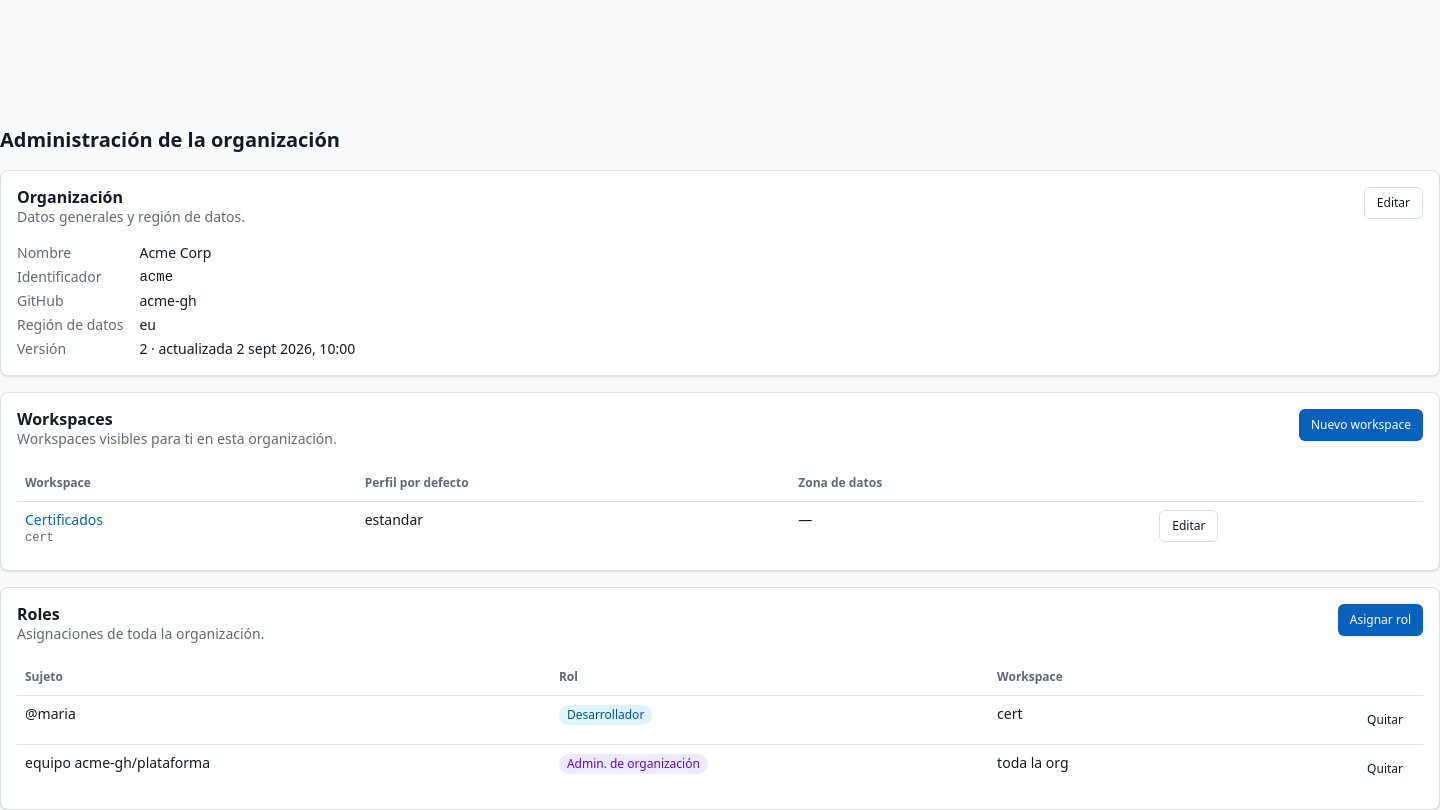
Test case: administración de la organización › un 409 al editar se explica como conflicto de versión y un 422 lista los campos inválidos
(page scrolled)
Click the button "Editar" in the row of "Certificados".
click(1189, 526)  # box [1159,510,1218,542]
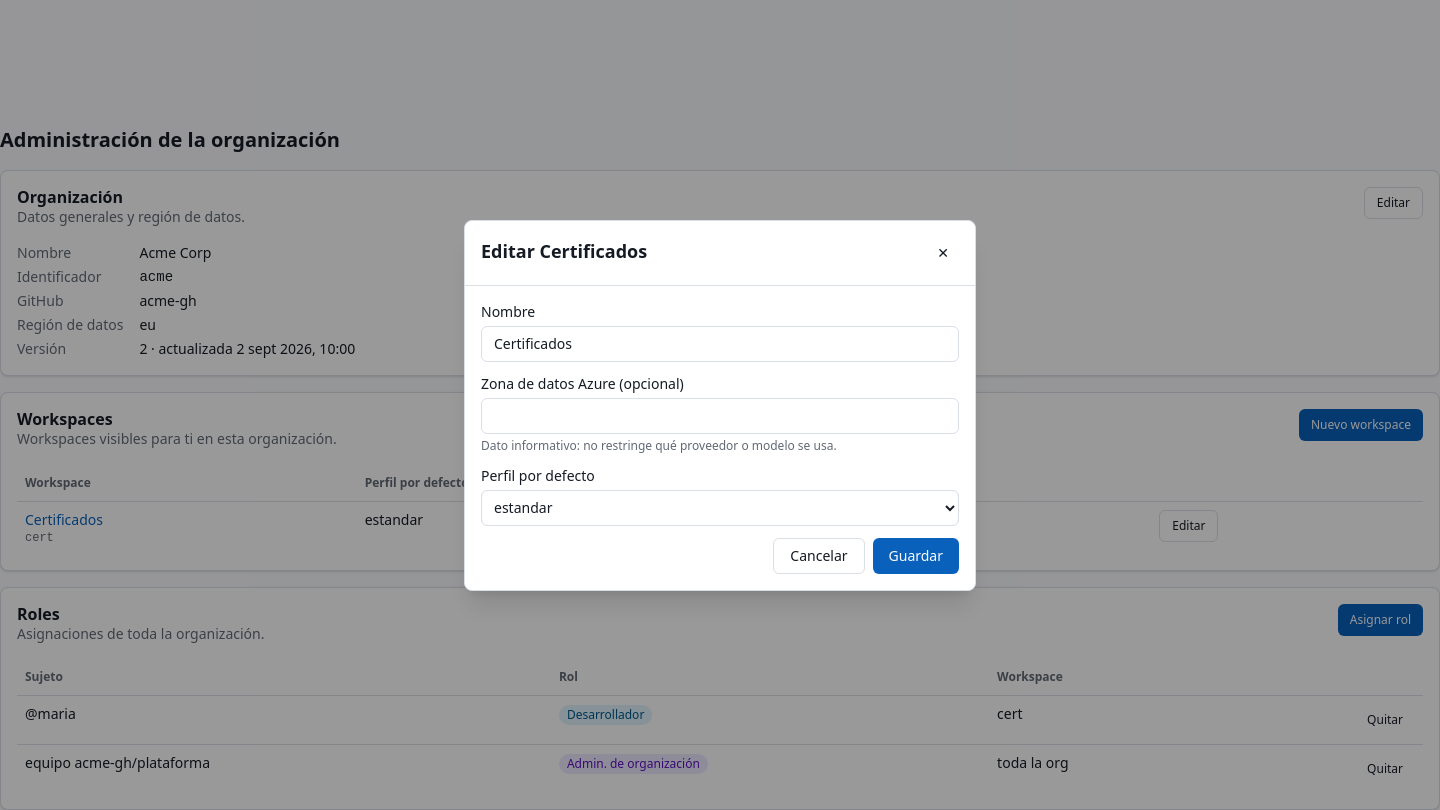
Click the button "Guardar".
click(916, 556)  # box [872,538,959,574]
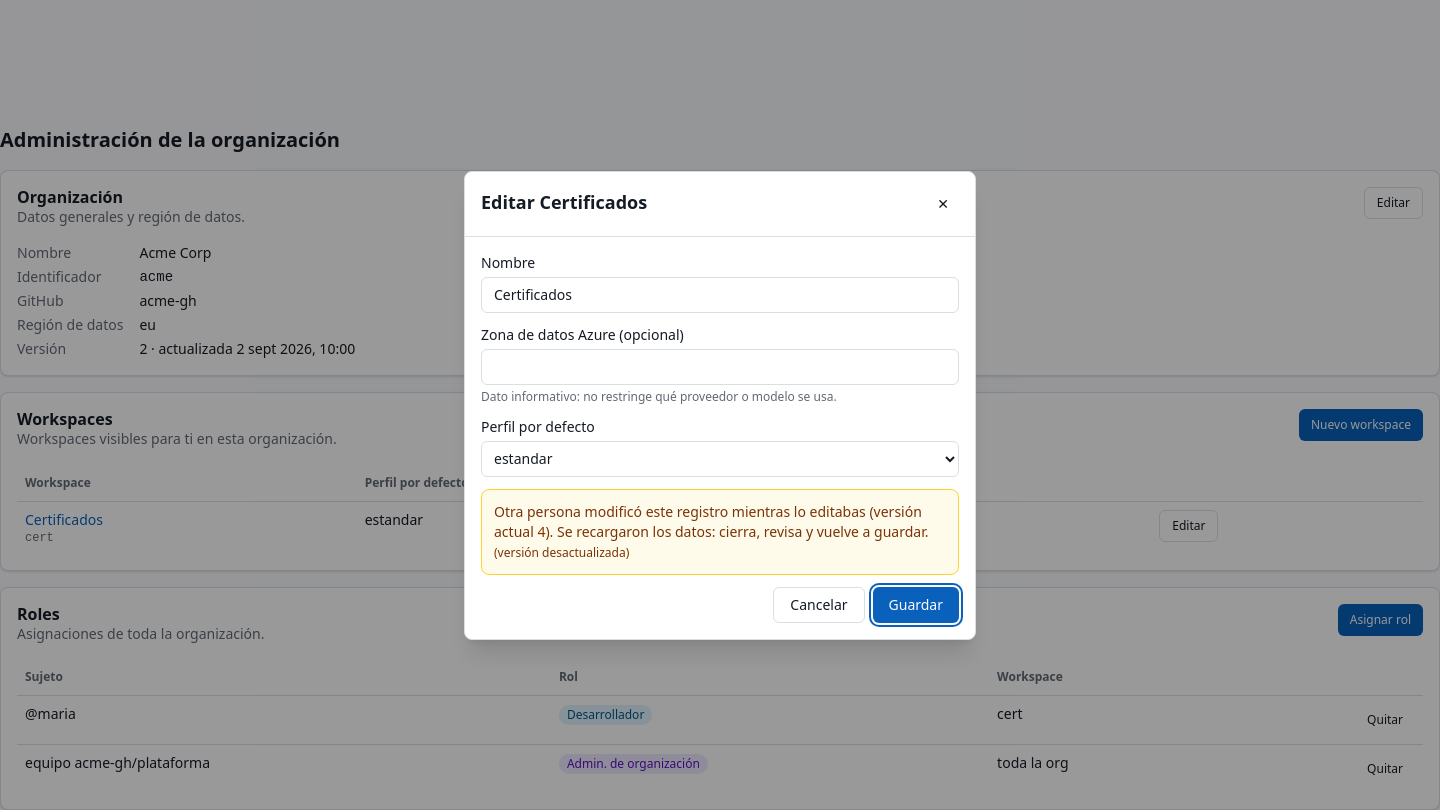
Expected: the text "Otra persona modificó este registro" shows "(versión actual 4)", [494,502,922,540]
Expected: the text "(versión desactualizada)" is shown, [494,544,629,560]
Click the button "Guardar".
click(916, 604)  # box [872,586,959,622]
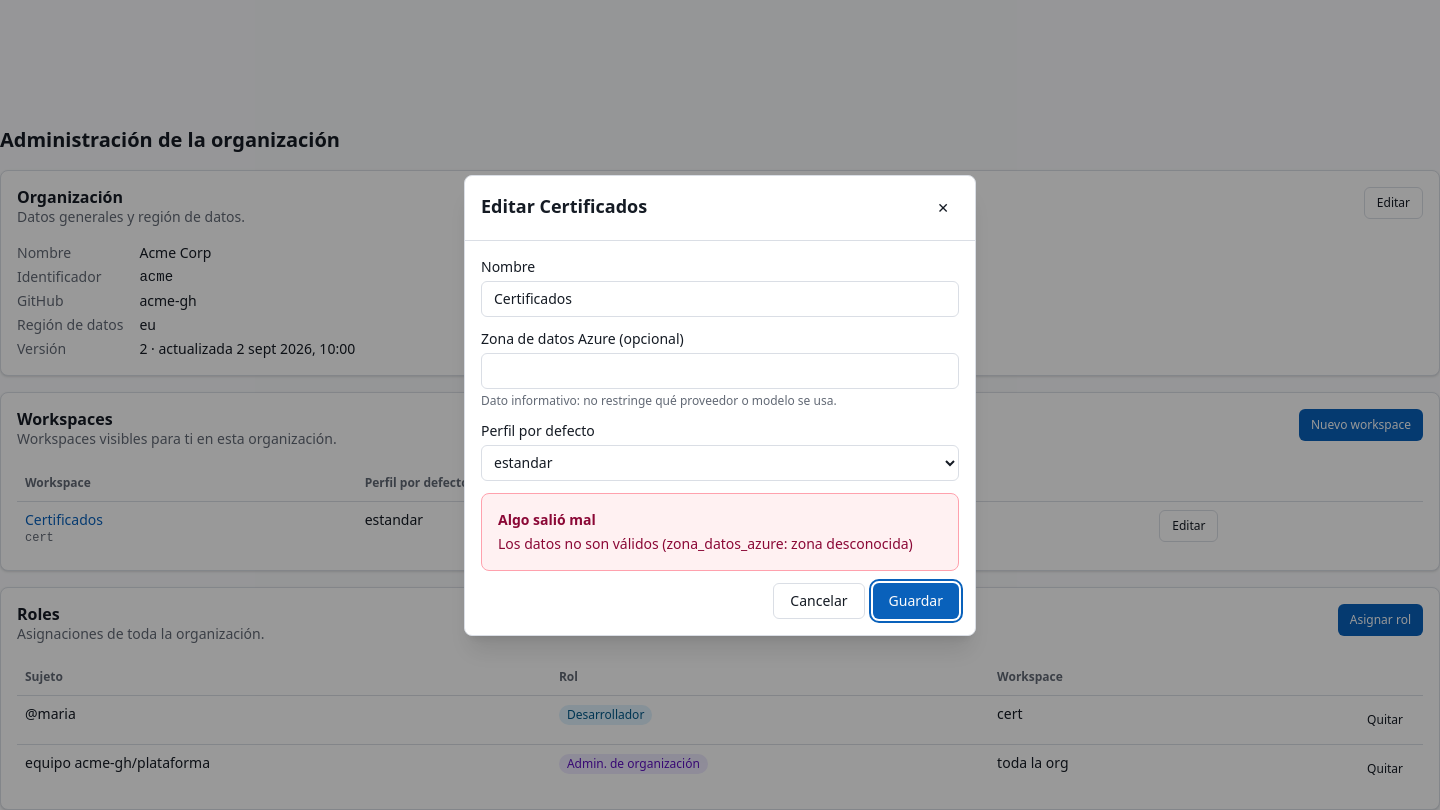
Expected: the message shows "Los datos no son válidos (zona_datos_azure: zona desconocida)", [498,534,913,552]
